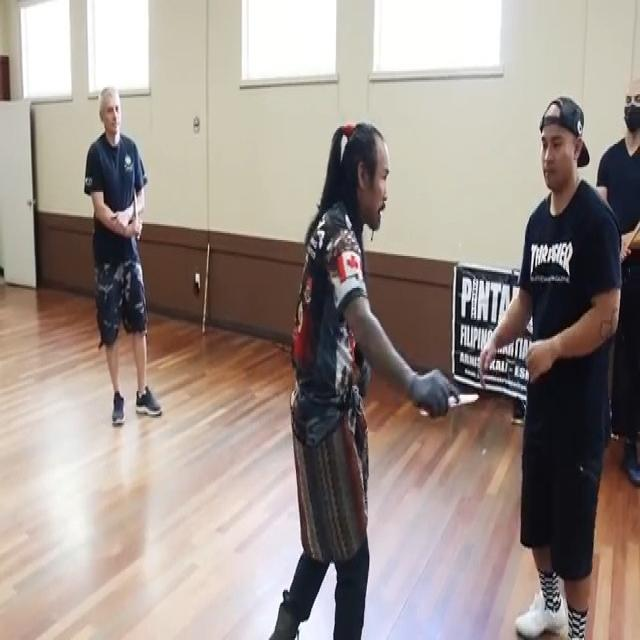Sharp-Object: (419, 388, 479, 418)
